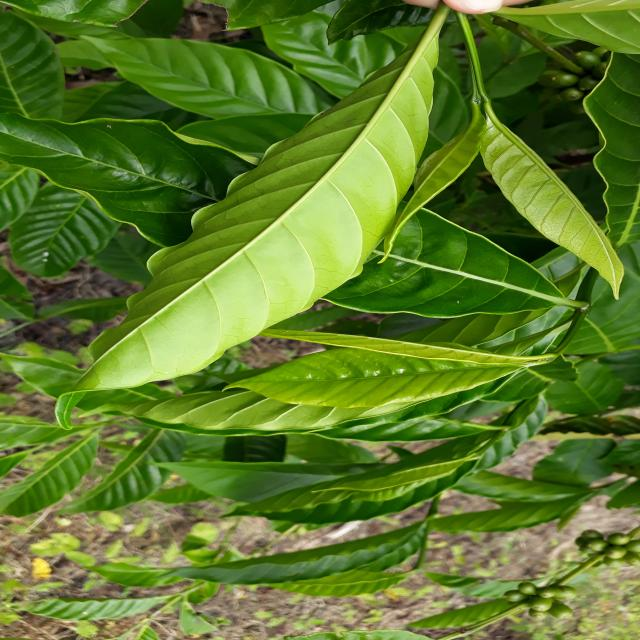Sanas: (74, 31, 477, 394)
